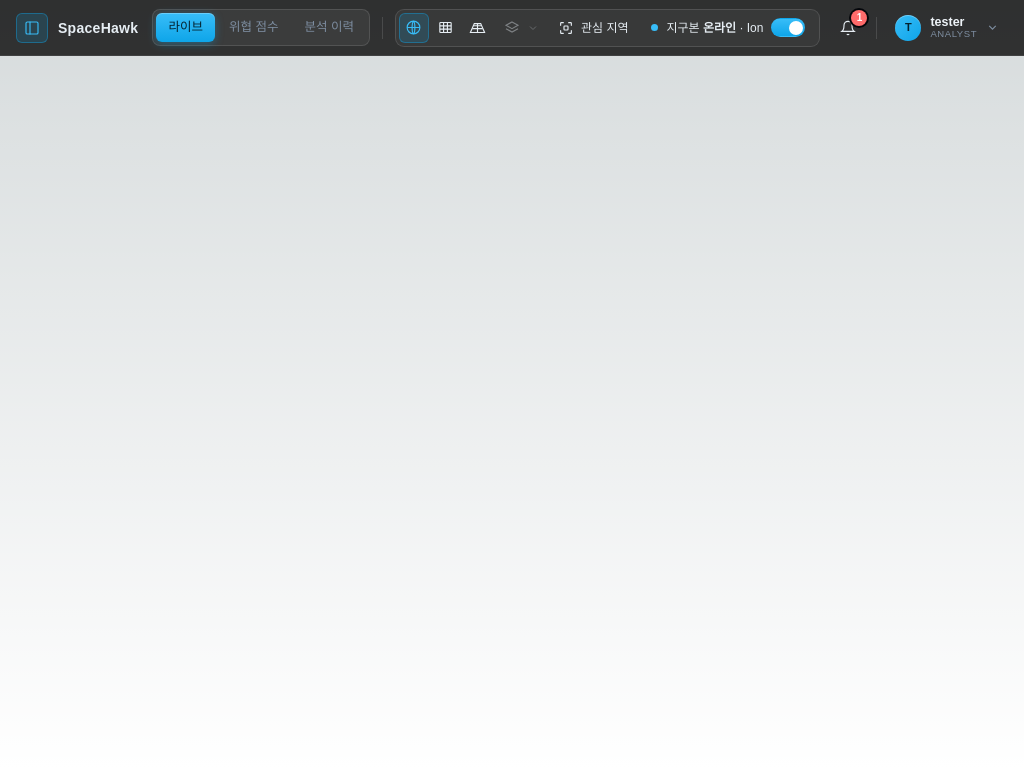
Header notification bell › shows the country flag + satellite title for a watchlisted alert
The image size is (1024, 768).
Click the button named "알림" at (848, 28), box 832,12 -> 864,42
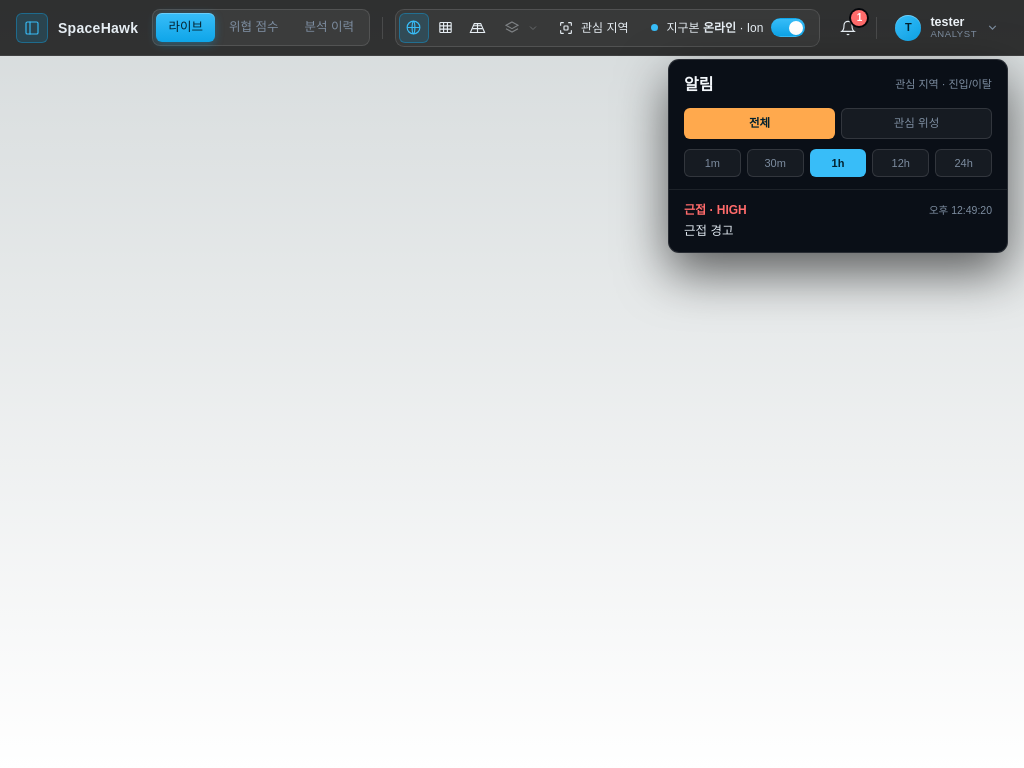
Click the button "관심 위성" at (916, 123), box 841,108 -> 992,139
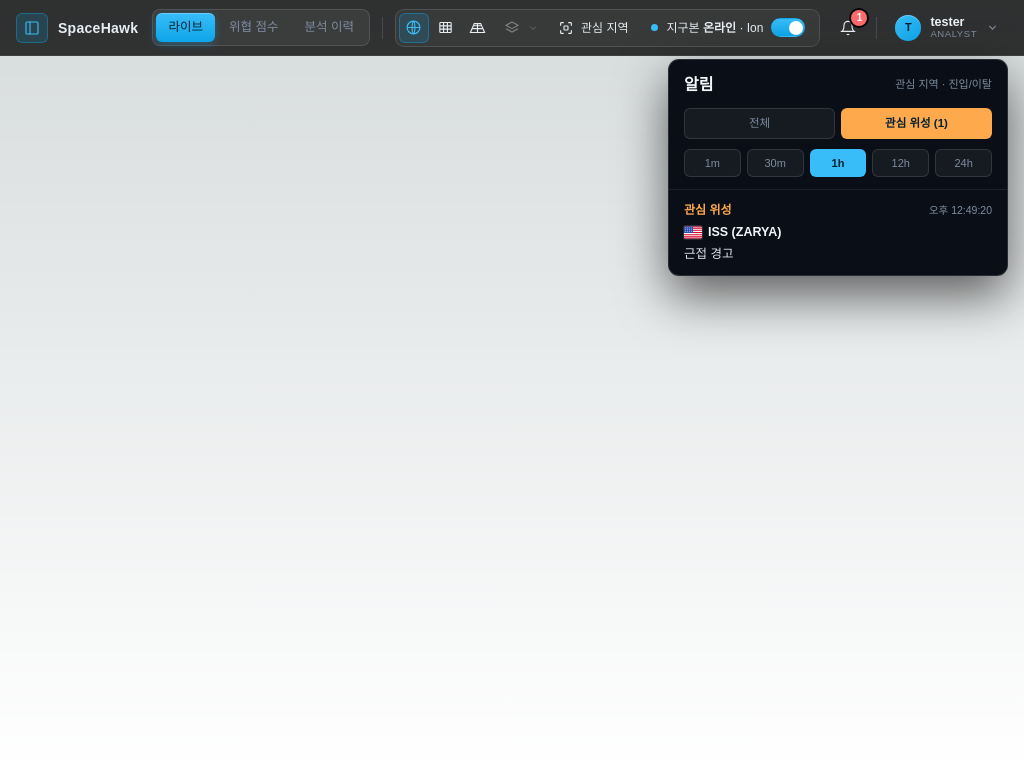
Expected: the text "ISS (ZARYA)" is shown, 708,223 -> 781,242
